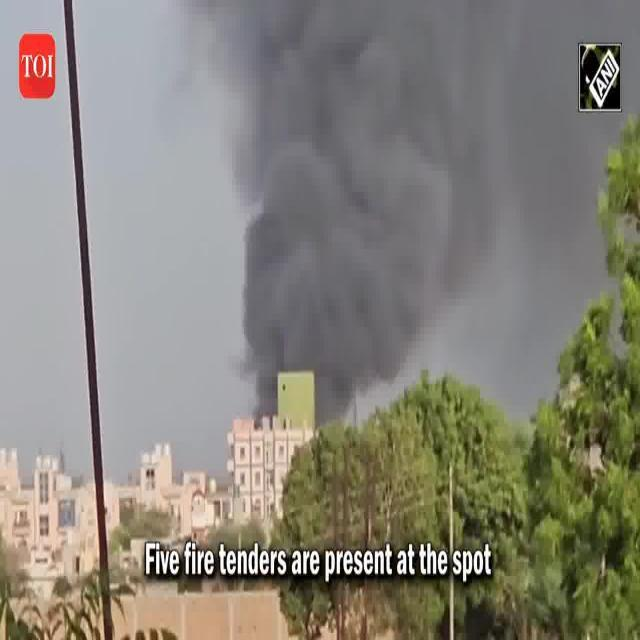Smoke: (256, 68, 406, 350)
